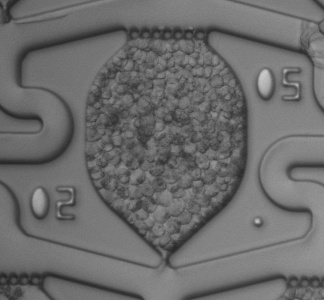AptNum: (248, 63, 310, 108)
Marker: (244, 208, 274, 235)
StNum: (21, 178, 83, 228)
Trap: (145, 257, 189, 299)
